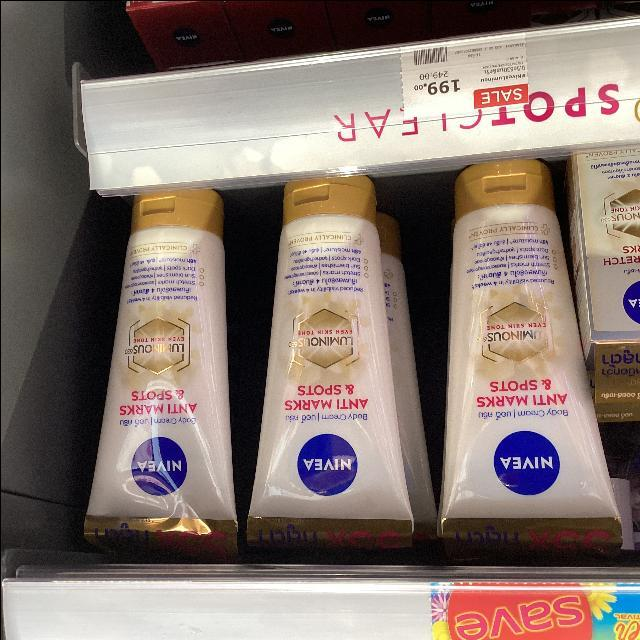Squeeze Tube: (99, 152, 610, 555), (430, 150, 639, 563), (70, 190, 251, 553), (232, 182, 413, 534)
